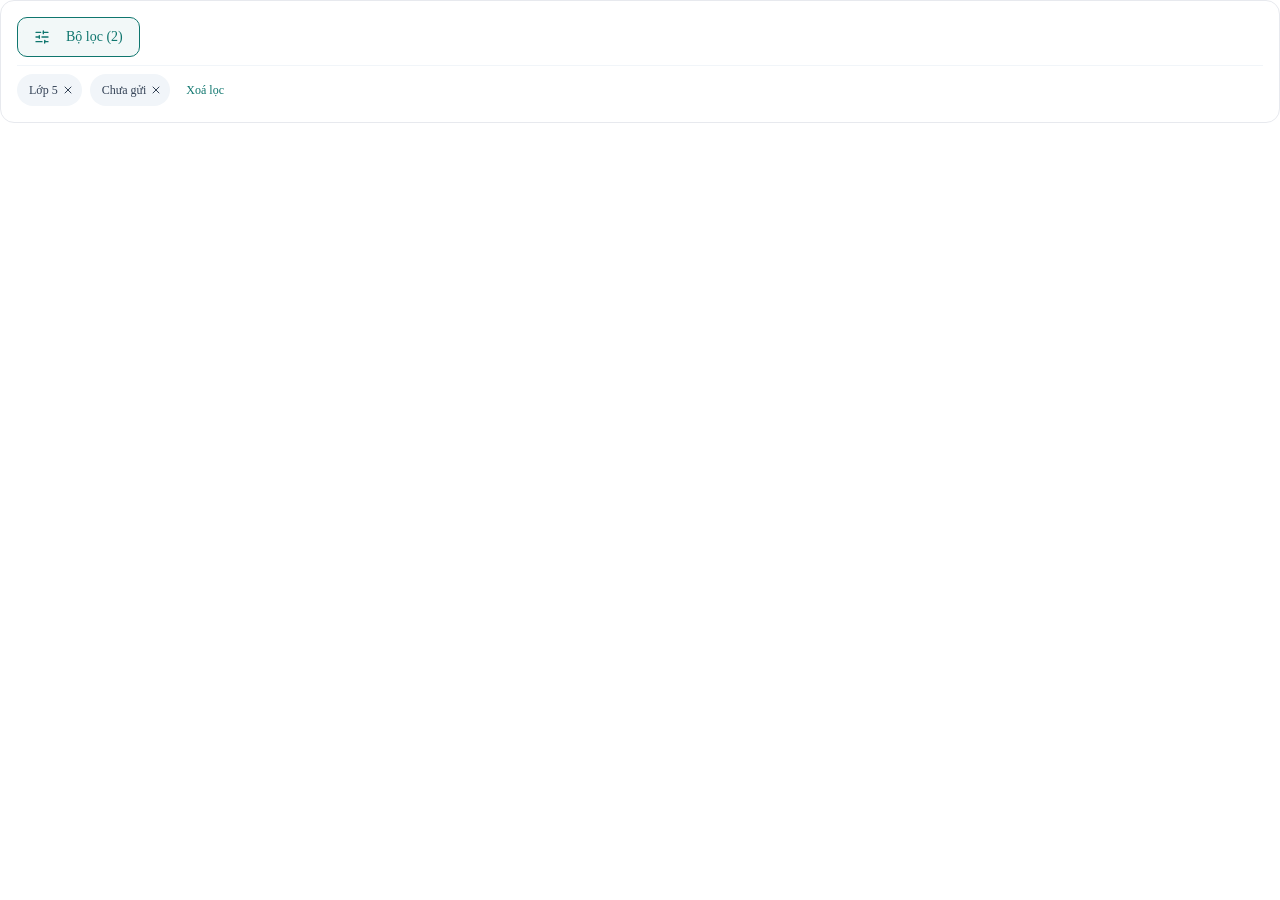
FilterBar AK — Bộ lọc, chip, ⋯ › popover đang mở rồi thu xuống điện thoại: ô lọc chỉ có tối đa 1 bản
Click the button "Bộ lọc (2)": coordinates (78, 37) [17,17,140,57]
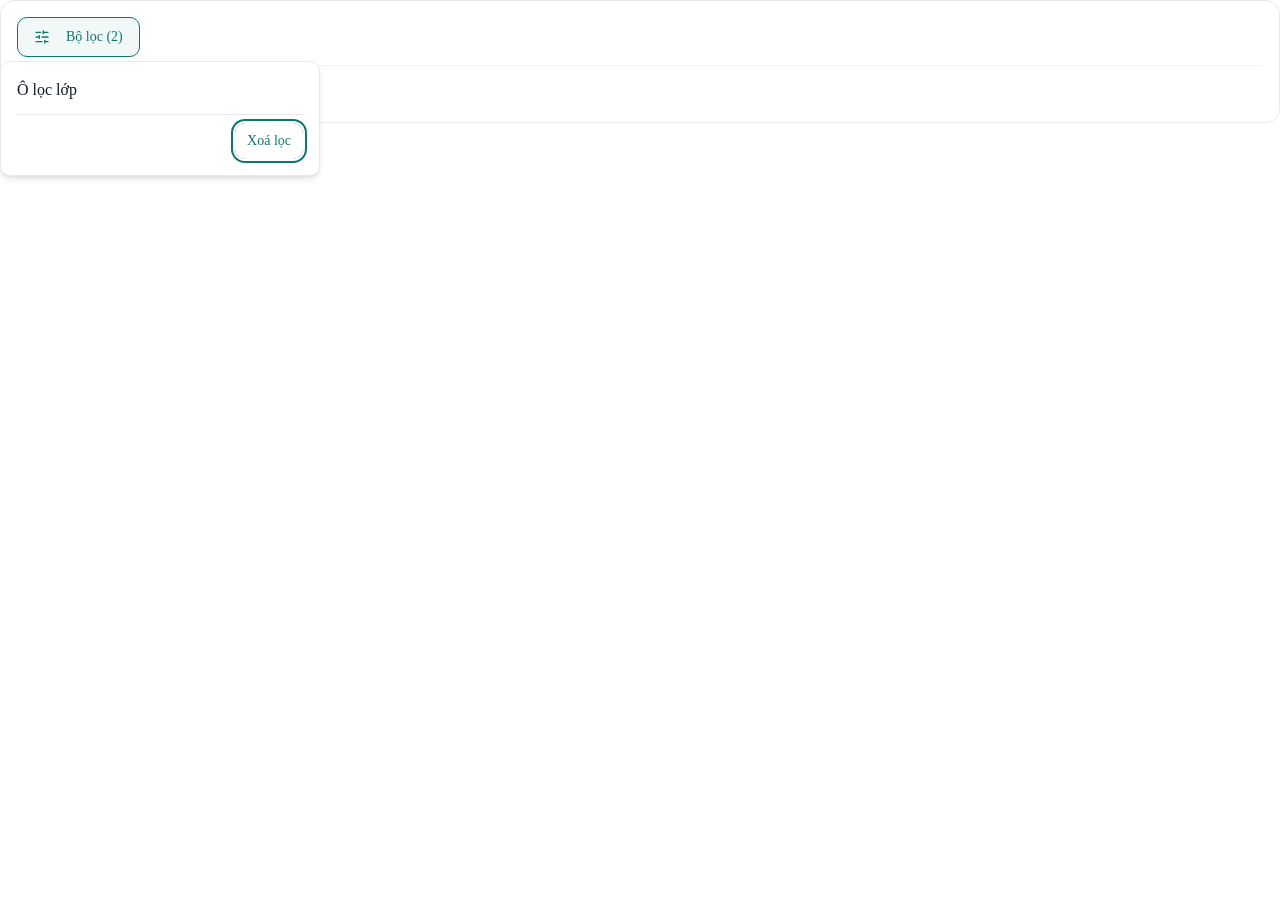
Expected: the dialog is shown, [0,61,320,176]
